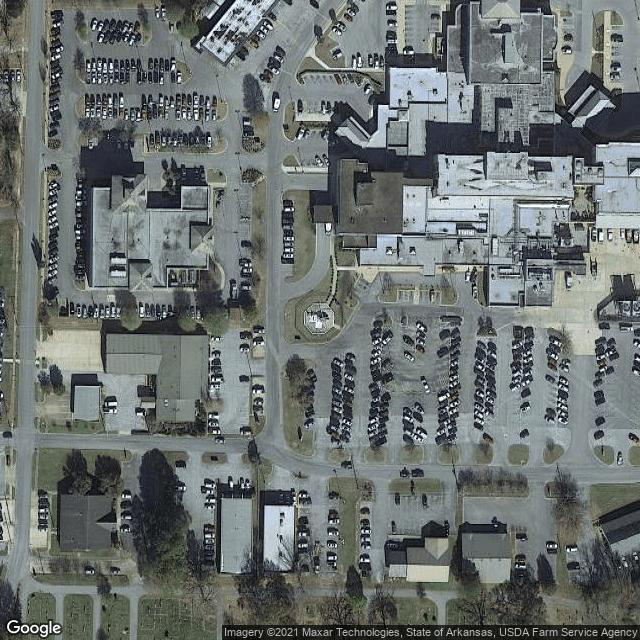Helipad: (301, 302, 337, 335)
